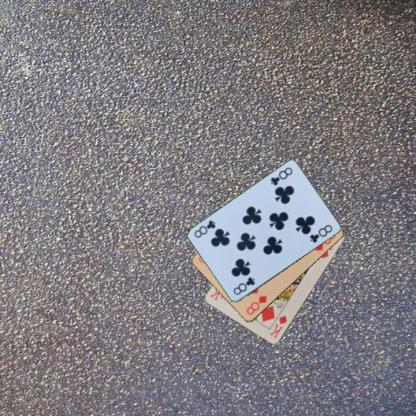8c: (230, 274, 256, 296), (268, 165, 294, 187)
8d: (244, 293, 268, 316)
Kd: (267, 313, 288, 340)
